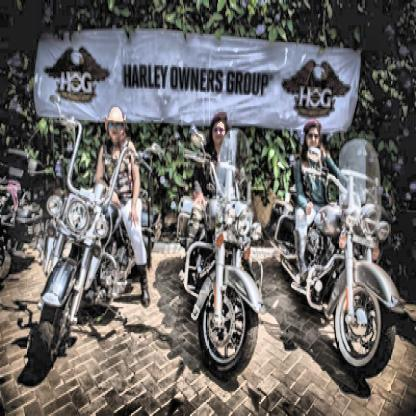not_wear: (104, 105, 126, 155), (306, 119, 323, 149), (211, 111, 222, 151)
